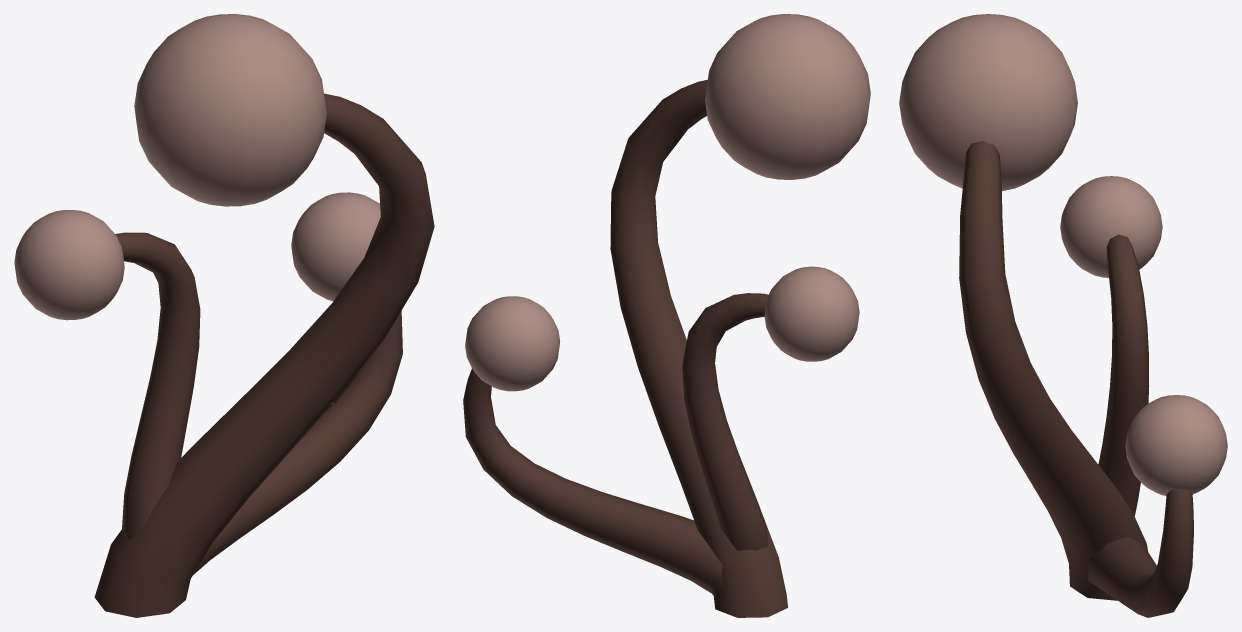
Rendered from tree_light_1.glb.
The picture shows the model from 3 angles, left to right: view 1: azimuth 30°, elevation 25°; view 2: azimuth 150°, elevation 25°; view 3: azimuth 270°, elevation 25°; orthographic projection. The views are drawn at different scales.
Visible parts, largest first — view 1: Tree_Light_1; view 2: Tree_Light_1; view 3: Tree_Light_1.
Boxes of the visible parts, x1,y1,x2,y2 form: Tree_Light_1: [14, 14, 434, 617]; Tree_Light_1: [463, 14, 870, 617]; Tree_Light_1: [899, 14, 1227, 617].
Bounding box in the file's own units: 2.63 × 3.76 × 1.96.
1 material, 1 textured.
